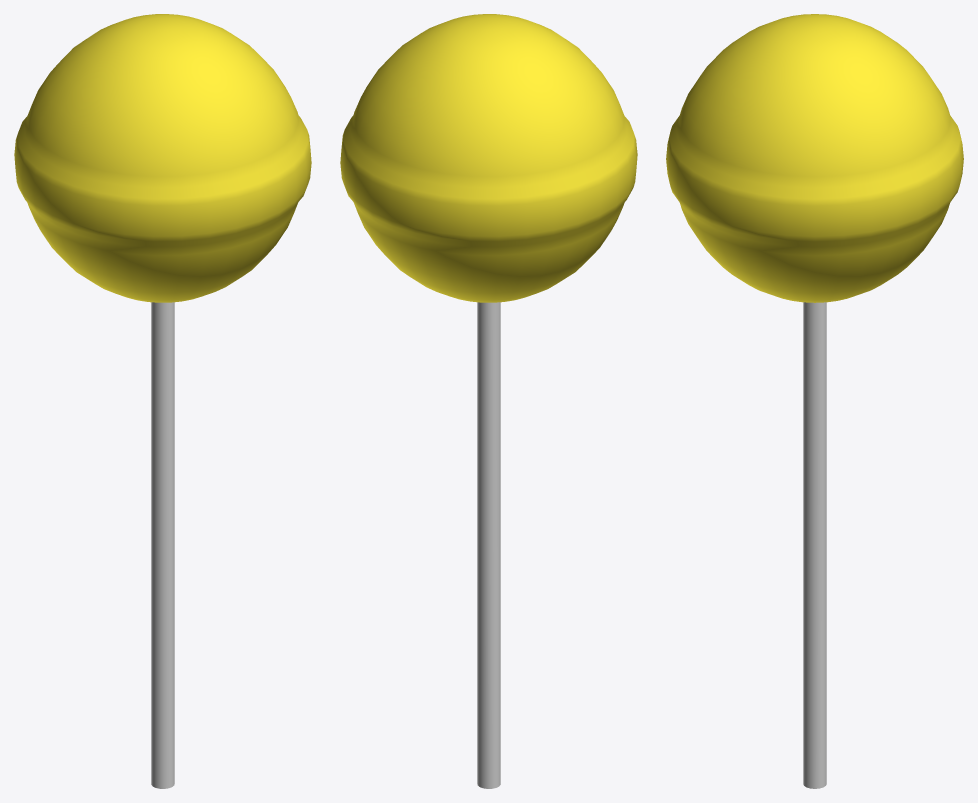
Rendered from LolipopYellow.fbx.
The picture shows the model from 3 angles, left to right: view 1: azimuth 30°, elevation 25°; view 2: azimuth 150°, elevation 25°; view 3: azimuth 270°, elevation 25°; orthographic projection.
Parts seen in each view (by area): view 1: Head, Stick; view 2: Head, Stick; view 3: Head, Stick.
Part boxes in pixels (x1,y1,x2,y2): Head: [14, 14, 311, 302]; Stick: [151, 302, 174, 788]; Head: [340, 14, 637, 302]; Stick: [477, 302, 500, 788]; Head: [666, 14, 963, 302]; Stick: [803, 302, 826, 788].
Size of the model in its own units: 3.01 by 8.45 by 3.01.
